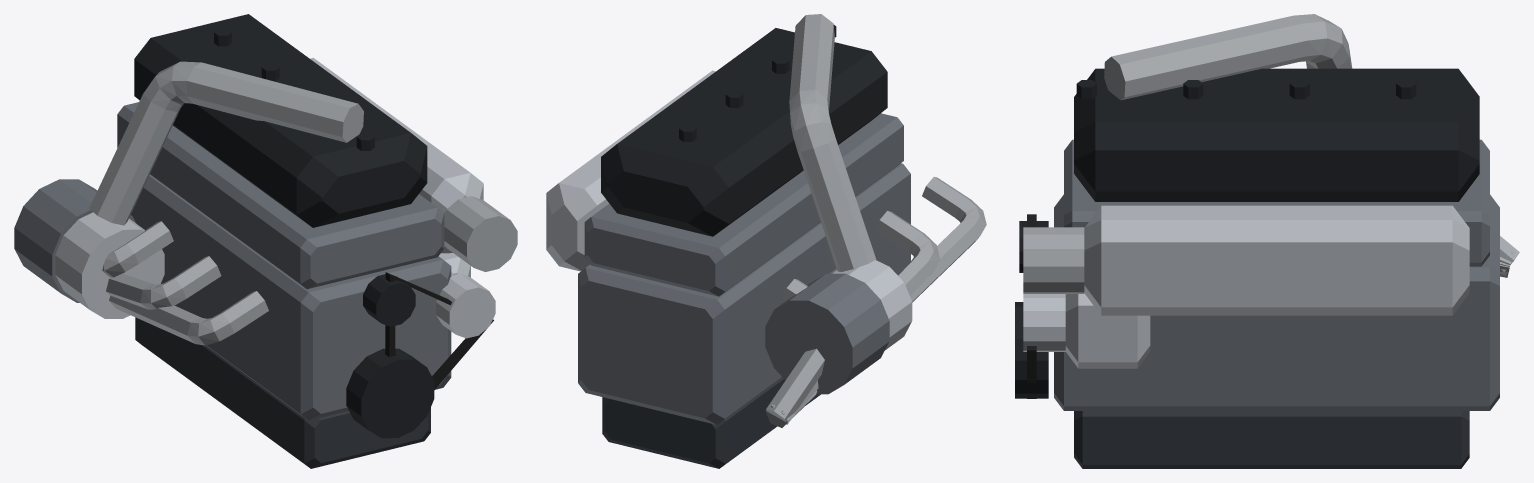
File: crate_kmw_i4_20t.glb
3 renders of one model, left to right at view 1: azimuth 30°, elevation 25°; view 2: azimuth 150°, elevation 25°; view 3: azimuth 270°, elevation 25°, orthographic. The views are drawn at different scales.
Visible parts, largest first — view 1: model; view 2: model; view 3: model.
Part boxes in pixels (<box>): model: <box>14,14,517,468</box>; model: <box>546,14,986,468</box>; model: <box>1015,14,1519,468</box>.
Bounding box in the file's own units: 0.4783 × 0.4947 × 0.5975.
3 materials, 1 textured.
